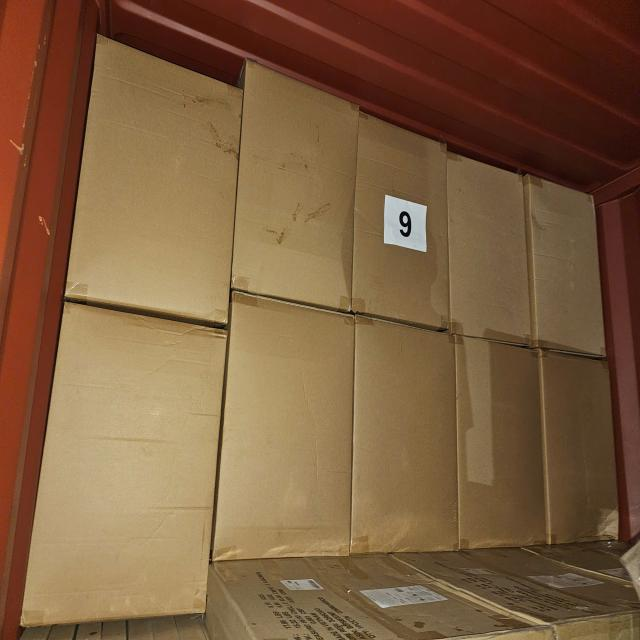Carton: (84, 39, 241, 327), (52, 303, 230, 528), (223, 294, 355, 564), (241, 60, 357, 318), (355, 319, 461, 554), (357, 118, 454, 334), (464, 336, 550, 550), (442, 151, 528, 351), (542, 346, 618, 542), (530, 172, 608, 358)
